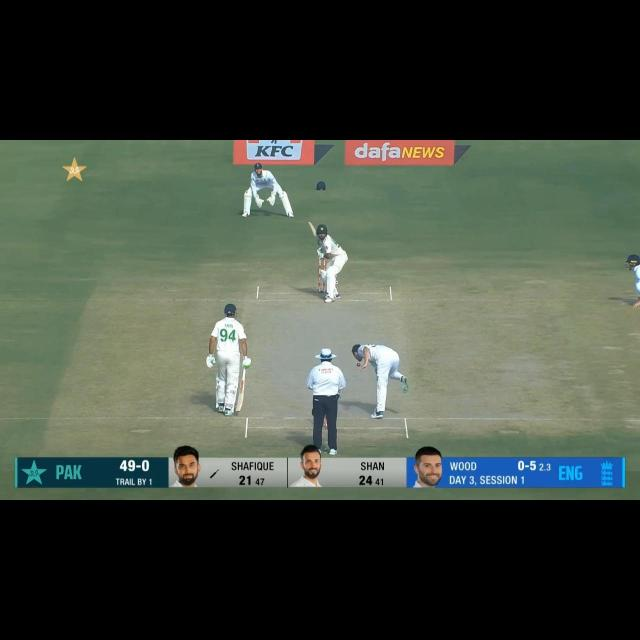bat: (232, 380, 250, 414), (303, 217, 323, 243)
toe: (234, 404, 243, 414), (305, 220, 315, 228)
